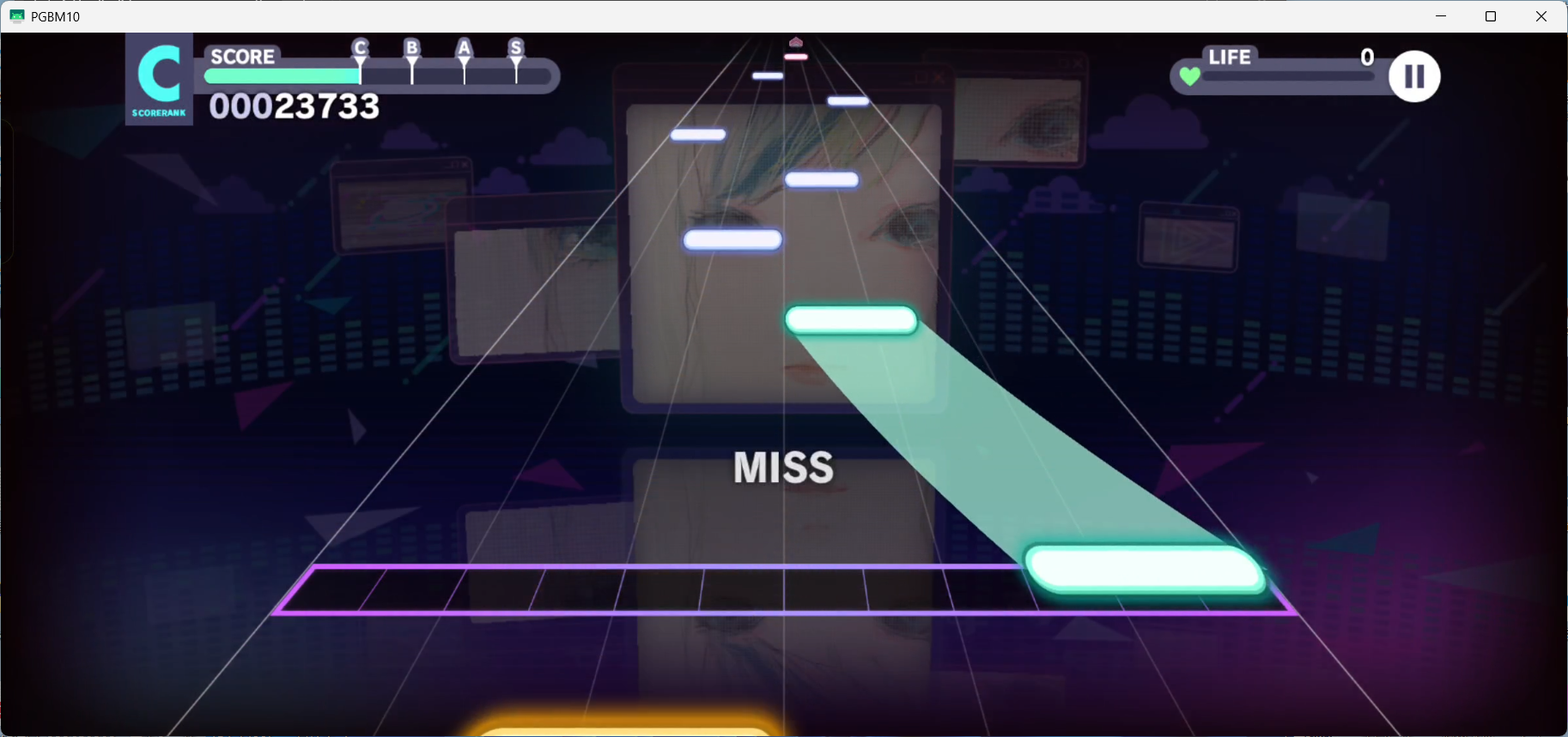flick: (789, 36, 803, 47)
hold: (792, 336, 1229, 544)
tap: (1024, 545, 1266, 595), (786, 305, 917, 335), (684, 230, 781, 249), (785, 172, 858, 187), (671, 129, 726, 140), (828, 96, 869, 106), (752, 72, 783, 79), (784, 53, 807, 60)
